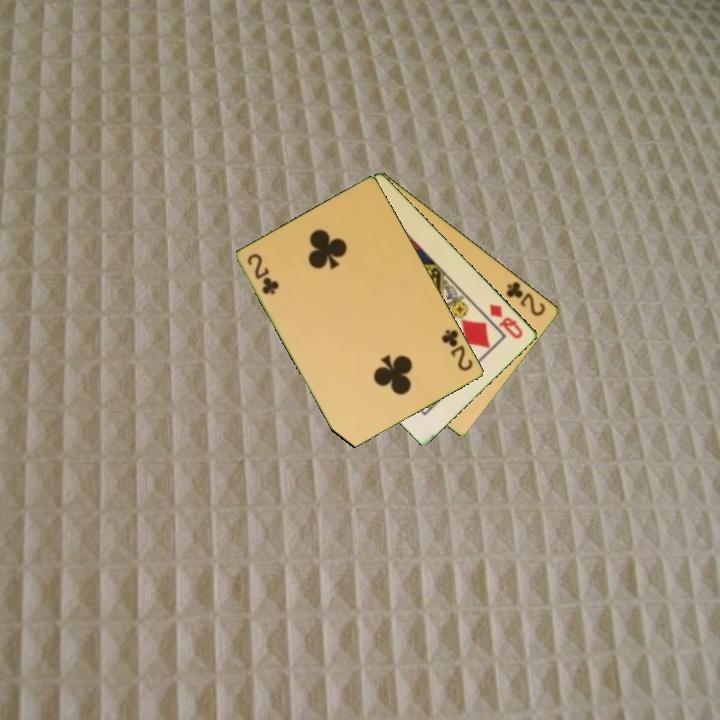2c: (503, 278, 549, 319), (438, 326, 476, 374), (244, 250, 282, 298)
Qd: (486, 300, 526, 342)
